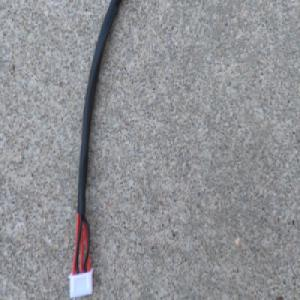Wire: (68, 0, 130, 298)
